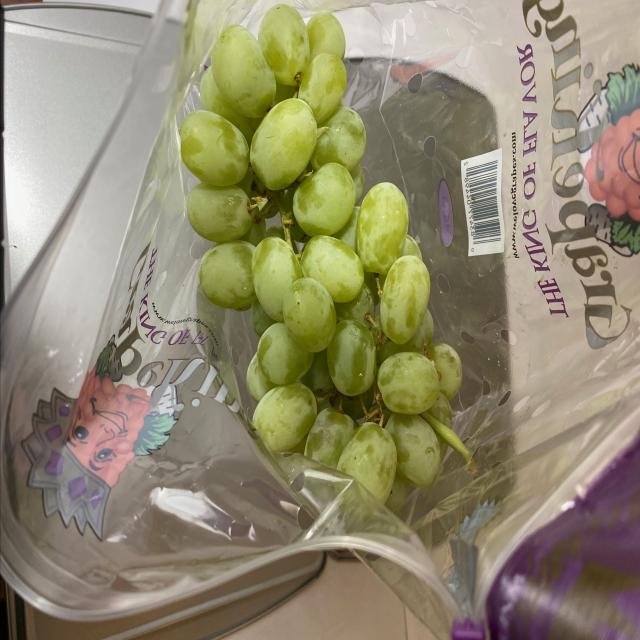grapes: (188, 12, 476, 520)
